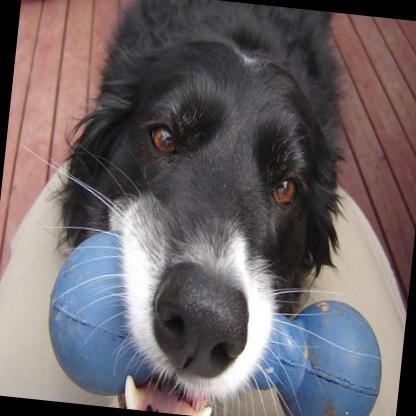Border_collie: (25, 0, 367, 416)
